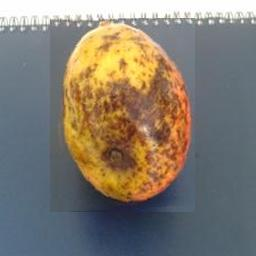Mango Rotten: (50, 18, 195, 212)
